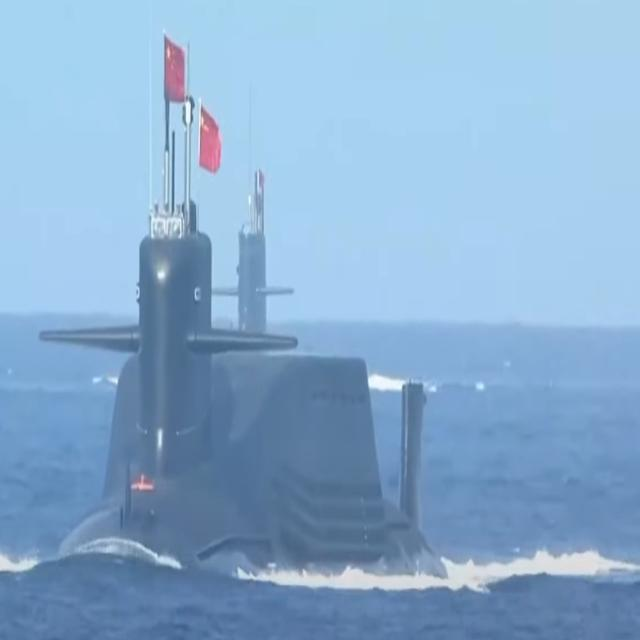Submarine-Jin-Class-CHI: (31, 0, 467, 593)
